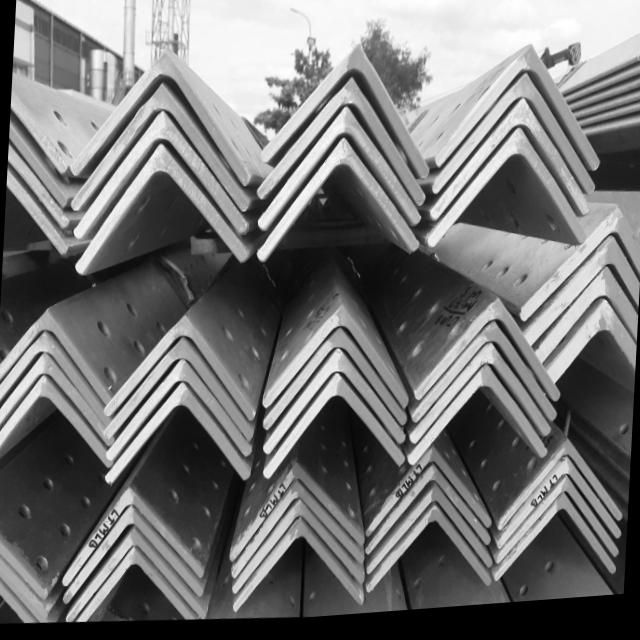metal-angles: (69, 51, 253, 191), (70, 84, 251, 215), (261, 49, 429, 185), (76, 146, 249, 277), (74, 113, 249, 240), (257, 83, 426, 212), (434, 52, 600, 179), (432, 79, 596, 205), (257, 112, 421, 237), (257, 143, 420, 267), (430, 106, 590, 229), (427, 135, 588, 255), (104, 318, 256, 424), (262, 308, 409, 416), (104, 340, 253, 445), (414, 306, 561, 410), (263, 353, 406, 459), (411, 328, 558, 430), (263, 379, 405, 484), (263, 332, 407, 435), (105, 384, 251, 485), (106, 362, 252, 463), (409, 350, 551, 451), (407, 372, 548, 472), (63, 489, 205, 588), (520, 215, 640, 330), (63, 508, 204, 605), (230, 466, 365, 566), (231, 483, 365, 583), (66, 529, 208, 623), (232, 501, 365, 599), (524, 244, 640, 355), (233, 522, 364, 616), (365, 452, 493, 544), (497, 445, 623, 538), (496, 466, 622, 557), (365, 470, 491, 561), (0, 331, 115, 430), (367, 491, 493, 581), (366, 511, 492, 600), (0, 309, 113, 408), (495, 484, 619, 572), (493, 501, 616, 589), (0, 354, 115, 448), (0, 376, 113, 469), (535, 275, 638, 373), (77, 548, 197, 623), (547, 308, 637, 392)
